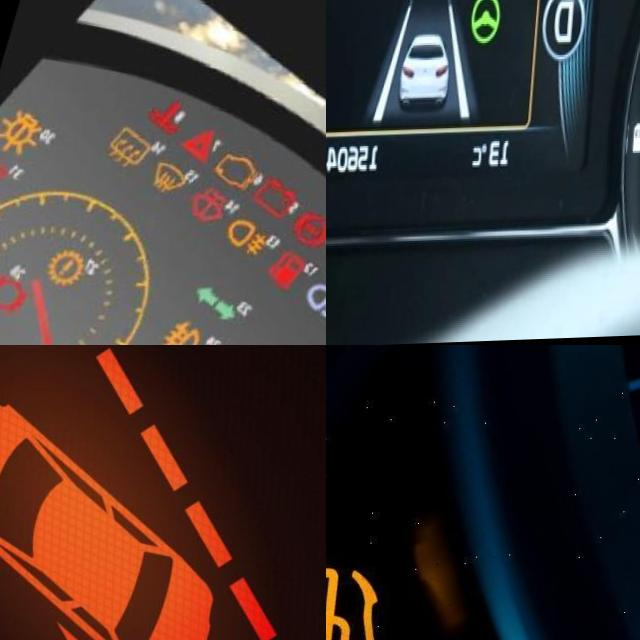Engine cooling system: (147, 92, 203, 145)
Low fuel level: (270, 245, 324, 297)
